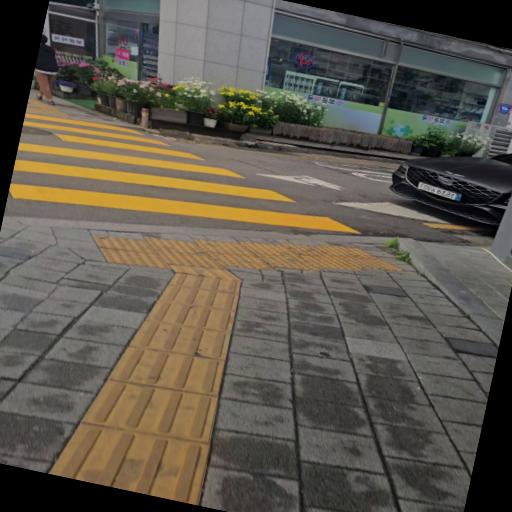yellow-crosswalk: (6, 99, 392, 276)
